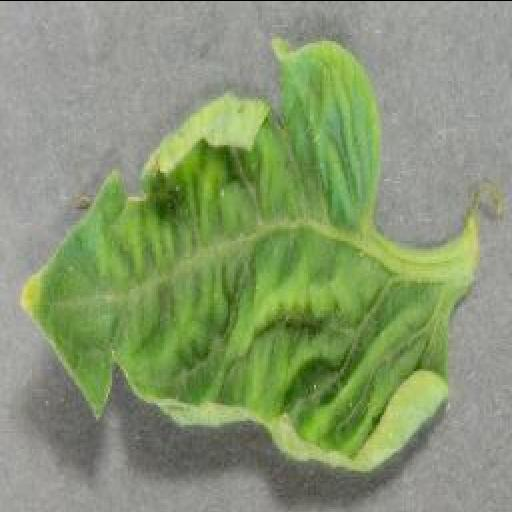disease_tomato: (20, 34, 452, 470)
